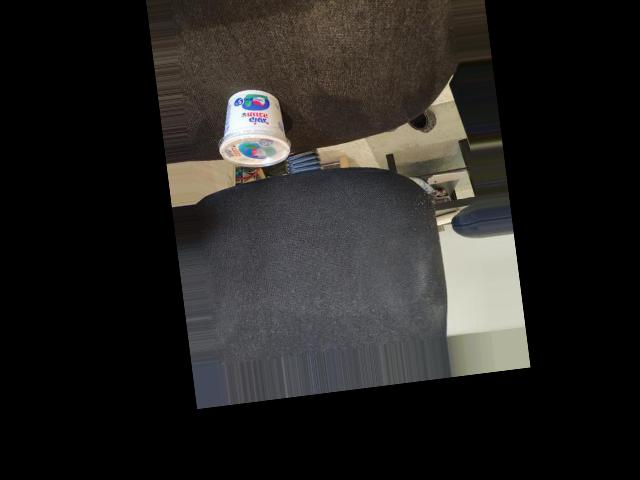cotage: (211, 82, 295, 172)
